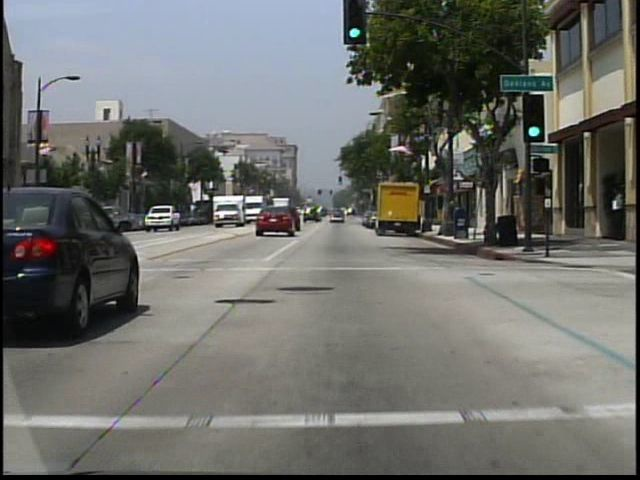person: (609, 191, 622, 238)
